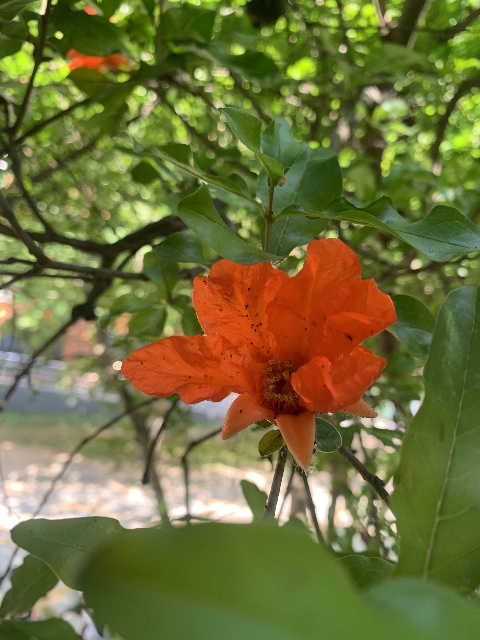flower: (121, 237, 400, 470)
